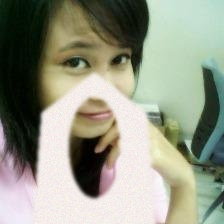Mukena: (30, 71, 158, 224)
